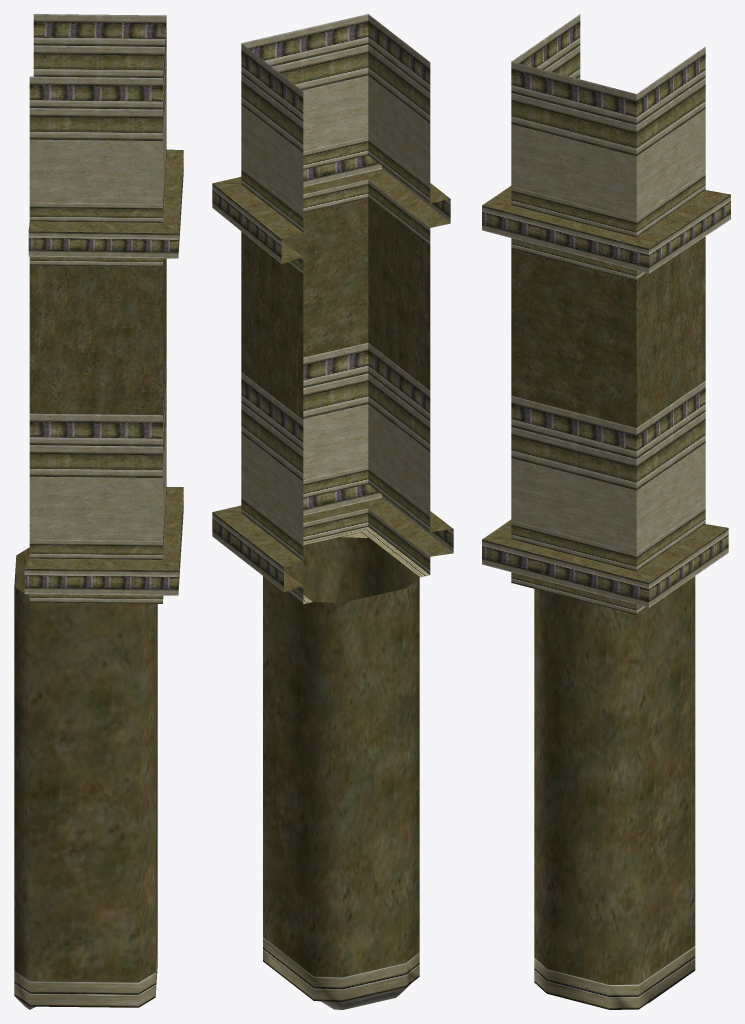
Rendered from CH09_SMAUG_PLAYSURFACE_LAIR69.fbx.
3 views of the same model, side by side, from view 1: azimuth 30°, elevation 25°; view 2: azimuth 150°, elevation 25°; view 3: azimuth 270°, elevation 25° (orthographic). The views are drawn at different scales.
Parts seen in each view (by area): view 1: CH09_SMAUG_PLAYSURFACE_LAIR69; view 2: CH09_SMAUG_PLAYSURFACE_LAIR69; view 3: CH09_SMAUG_PLAYSURFACE_LAIR69.
Boxes of the visible parts, left/top/right/bottom form: CH09_SMAUG_PLAYSURFACE_LAIR69: left=14, top=14, right=183, bottom=1009; CH09_SMAUG_PLAYSURFACE_LAIR69: left=212, top=14, right=453, bottom=1009; CH09_SMAUG_PLAYSURFACE_LAIR69: left=482, top=14, right=730, bottom=1009.
Bounding box in the file's own units: 47032 × 209918 × 50384.
5 materials, 5 textured.
